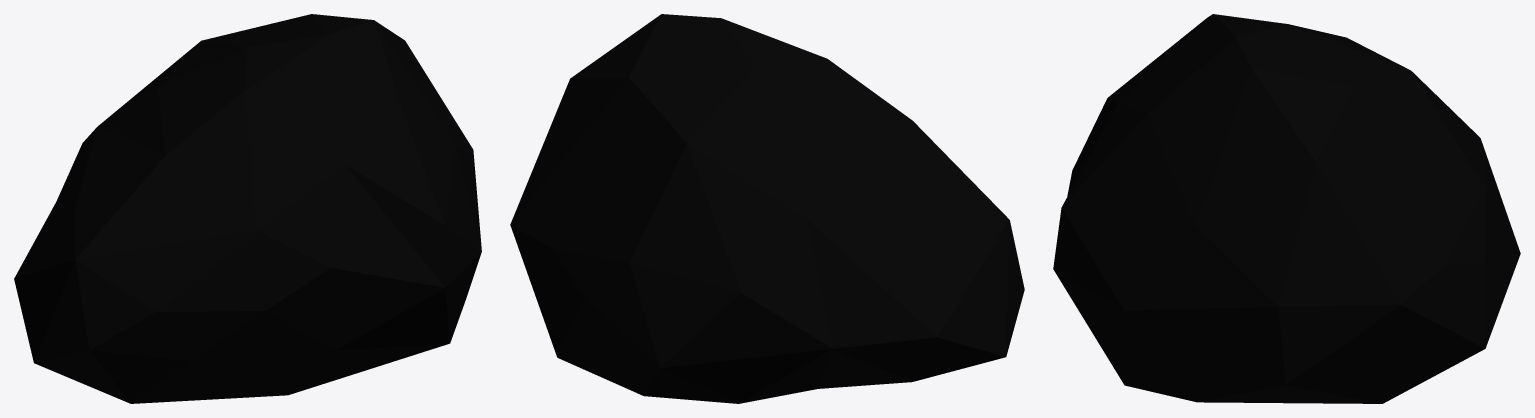
File: Gold Ore 03.fbx
The picture shows the model from 3 angles, left to right: view 1: azimuth 30°, elevation 25°; view 2: azimuth 150°, elevation 25°; view 3: azimuth 270°, elevation 25°; orthographic projection. The views are drawn at different scales.
Visible parts, largest first — view 1: Gold Ore 03; view 2: Gold Ore 03; view 3: Gold Ore 03.
Boxes of the visible parts, left/top/right/bottom form: Gold Ore 03: left=14, top=14, right=481, bottom=403; Gold Ore 03: left=510, top=14, right=1024, bottom=403; Gold Ore 03: left=1053, top=14, right=1520, bottom=403.
Size of the model in its own units: 35.98 by 25.36 by 29.71.
